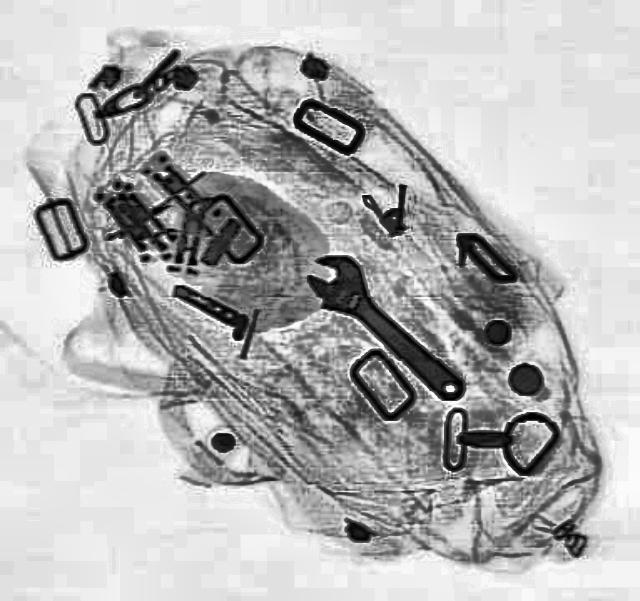Wrench: (288, 241, 484, 415)
